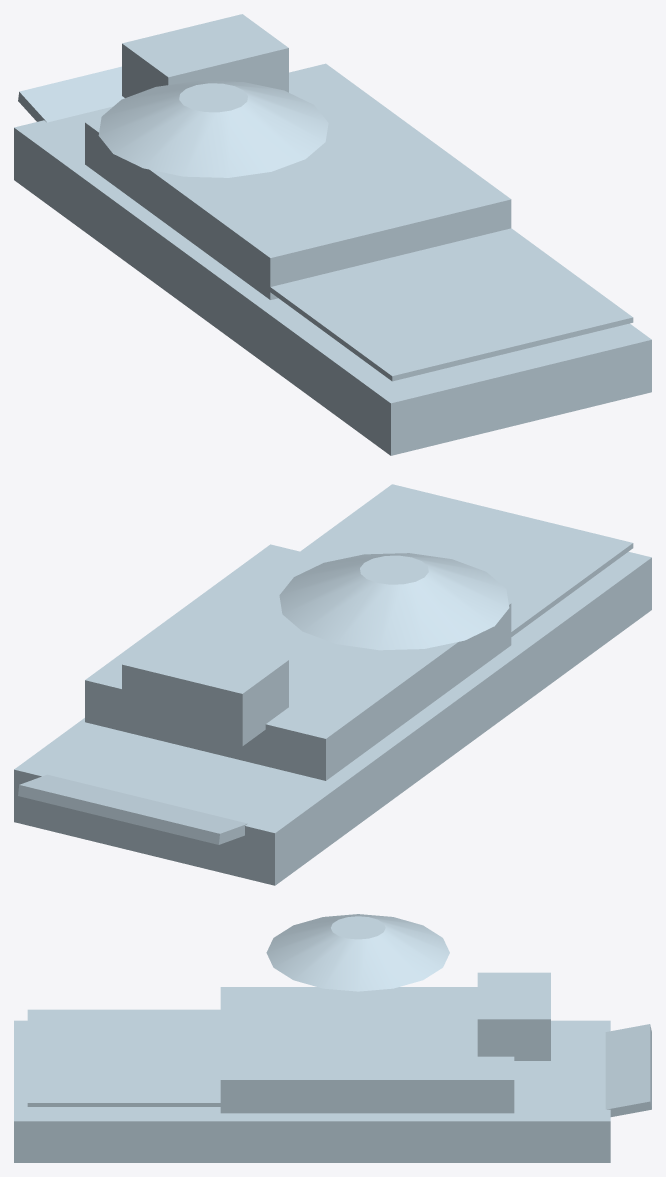
Rendered from ferry.glb.
3 renders of one model, top to bottom at view 1: azimuth 30°, elevation 25°; view 2: azimuth 150°, elevation 25°; view 3: azimuth 270°, elevation 25°, orthographic. The views are drawn at different scales.
Visible parts, largest first — view 1: hull, passengerDeck, carDeck, funnel, bridge, bowRamp; view 2: hull, passengerDeck, carDeck, funnel, bridge, bowRamp; view 3: hull, passengerDeck, carDeck, funnel, bridge, bowRamp.
Boxes of the visible parts, bbox=[...] form: hull: bbox=[14, 106, 651, 455]; passengerDeck: bbox=[85, 63, 511, 299]; carDeck: bbox=[264, 228, 633, 381]; funnel: bbox=[98, 80, 328, 177]; bridge: bbox=[122, 14, 288, 97]; bowRamp: bbox=[18, 66, 124, 122]; hull: bbox=[14, 551, 651, 885]; passengerDeck: bbox=[85, 544, 511, 780]; carDeck: bbox=[300, 484, 633, 636]; funnel: bbox=[279, 553, 509, 650]; bridge: bbox=[122, 630, 288, 746]; bowRamp: bbox=[18, 774, 247, 844]; hull: bbox=[14, 1020, 610, 1162]; passengerDeck: bbox=[220, 987, 514, 1113]; carDeck: bbox=[27, 1009, 229, 1106]; funnel: bbox=[266, 914, 449, 991]; bridge: bbox=[477, 972, 550, 1060]; bowRamp: bbox=[605, 1024, 651, 1116].
Bounding box in the file's own units: 32 × 18 × 69.5.
